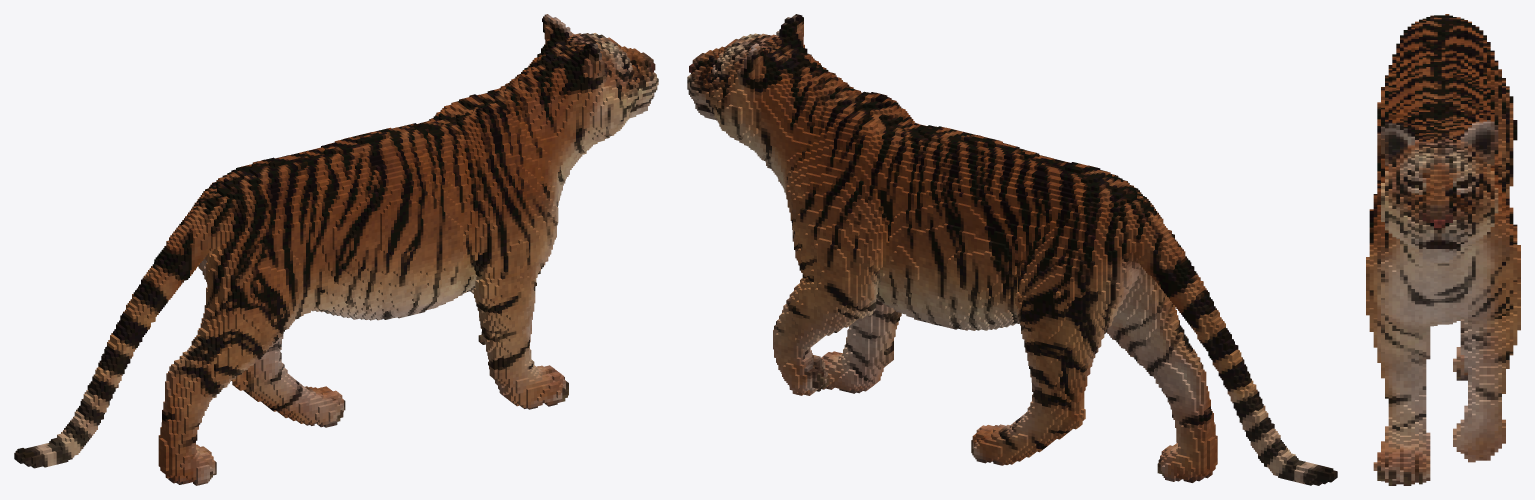
File: colored-voxels.glb
3 views of the same model, side by side, from view 1: azimuth 30°, elevation 25°; view 2: azimuth 150°, elevation 25°; view 3: azimuth 270°, elevation 25° (orthographic). The views are drawn at different scales.
Visible parts, largest first — view 1: geometry_0; view 2: geometry_0; view 3: geometry_0.
Part boxes in pixels (x1=…): geometry_0: x1=14, y1=14, x2=658, y2=485; geometry_0: x1=687, y1=14, x2=1337, y2=485; geometry_0: x1=1366, y1=14, x2=1520, y2=485.
Size of the model in its own units: 2.68 by 1.39 by 0.5125.
